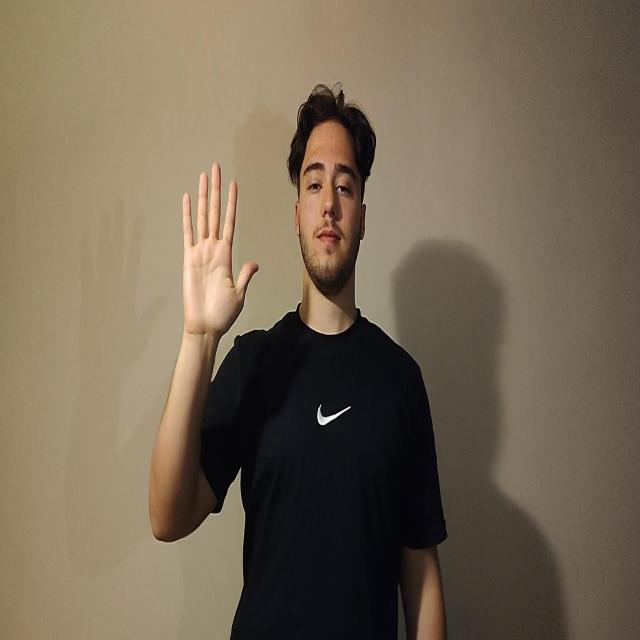hello: (181, 160, 259, 338)
